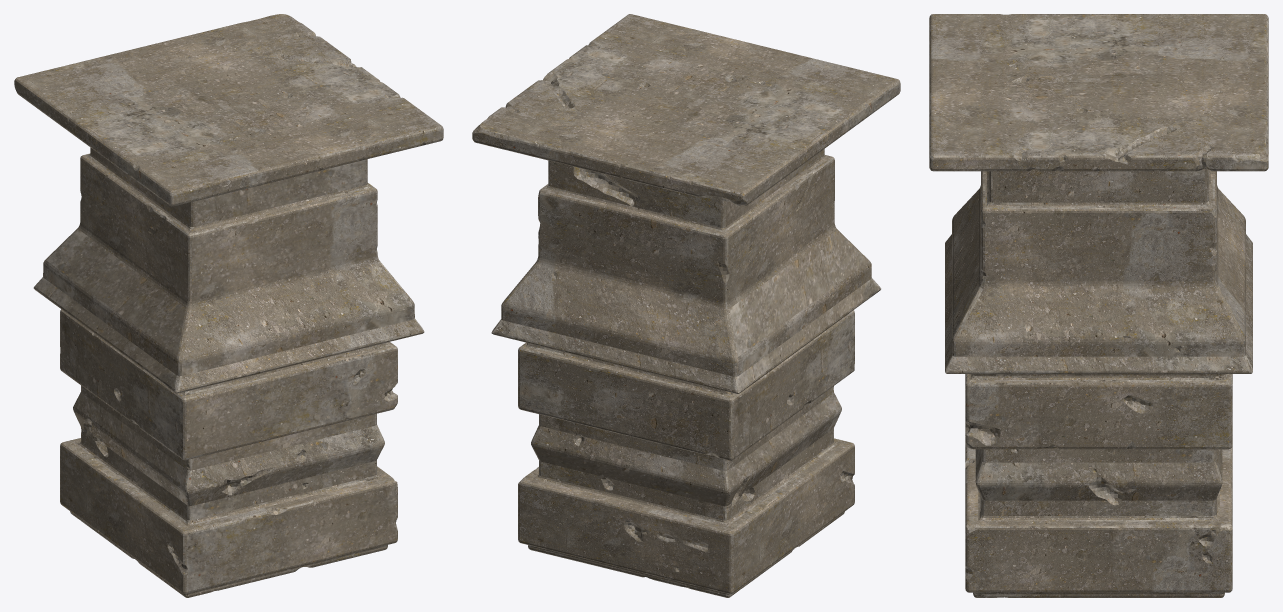
The picture shows the model from 3 angles, left to right: view 1: azimuth 30°, elevation 25°; view 2: azimuth 150°, elevation 25°; view 3: azimuth 270°, elevation 25°; orthographic projection. The views are drawn at different scales.
Visible parts, largest first — view 1: Cube_dmg_0; view 2: Cube_dmg_0; view 3: Cube_dmg_0.
Part boxes in pixels (x1,y1,x2,y2): Cube_dmg_0: (14, 14, 443, 597); Cube_dmg_0: (472, 14, 900, 597); Cube_dmg_0: (929, 14, 1268, 597).
Size of the model in its own units: 2.7 by 4.05 by 2.7.
1 material, 1 textured.
